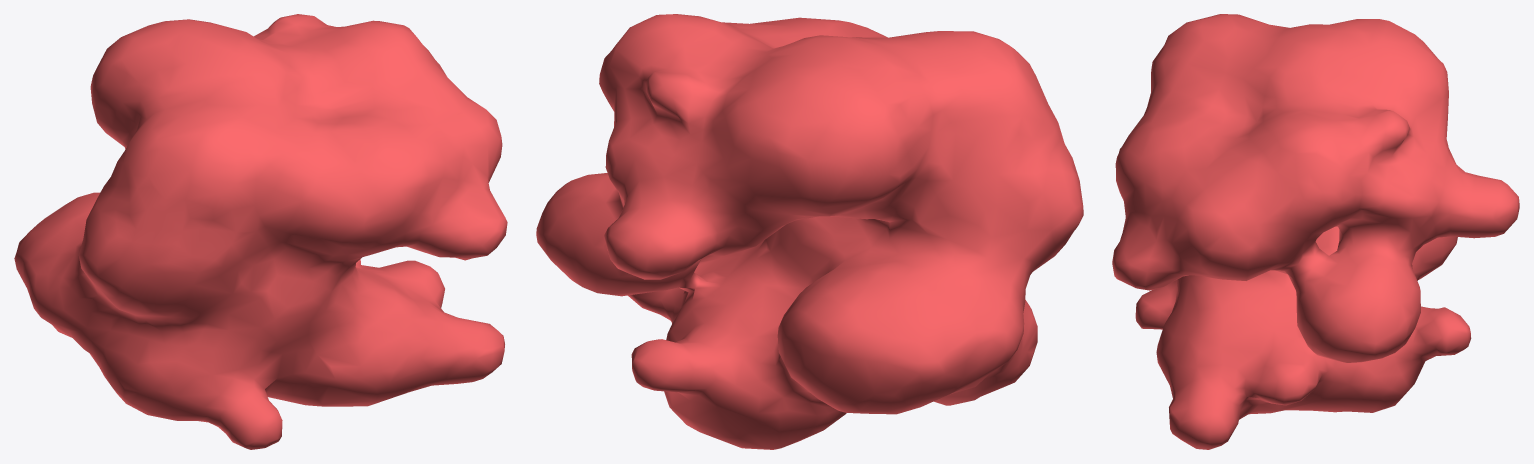
File: cotton-candy-shrub-lod.glb
The picture shows the model from 3 angles, left to right: view 1: azimuth 30°, elevation 25°; view 2: azimuth 150°, elevation 25°; view 3: azimuth 270°, elevation 25°; orthographic projection. The views are drawn at different scales.
Parts seen in each view (by area): view 1: cotton-candy-shrub low core; view 2: cotton-candy-shrub low core; view 3: cotton-candy-shrub low core.
Part boxes in pixels (<box>): cotton-candy-shrub low core: <box>14,14,507,449</box>; cotton-candy-shrub low core: <box>536,14,1083,449</box>; cotton-candy-shrub low core: <box>1112,14,1519,449</box>.
Bounding box in the file's own units: 1.5 × 1.2 × 1.32.
